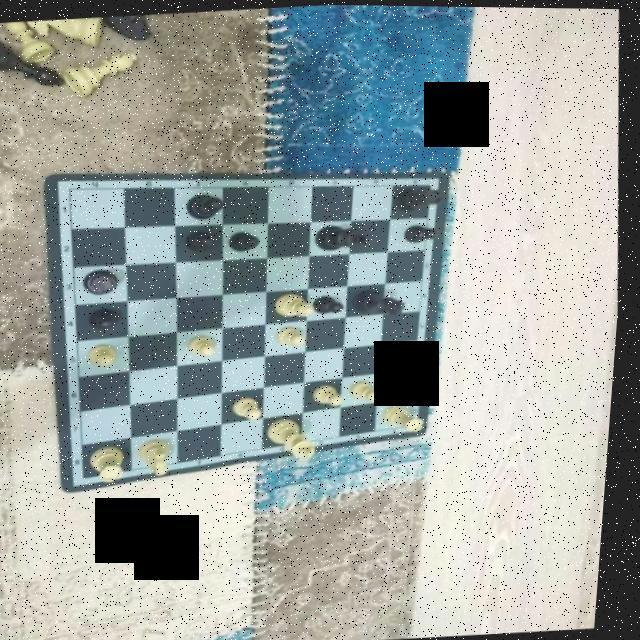chess-table-corners: (63, 180, 83, 196), (82, 469, 99, 482), (424, 176, 440, 188)
